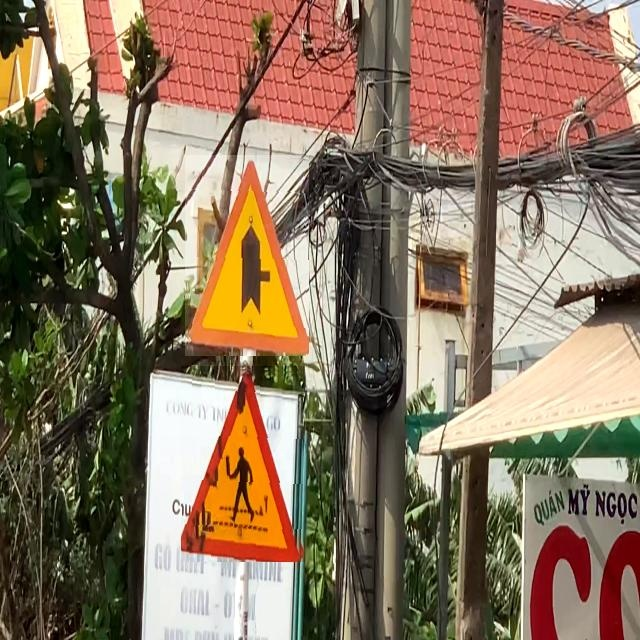bien_nguy_hiem: (185, 155, 309, 356), (181, 366, 305, 562)
